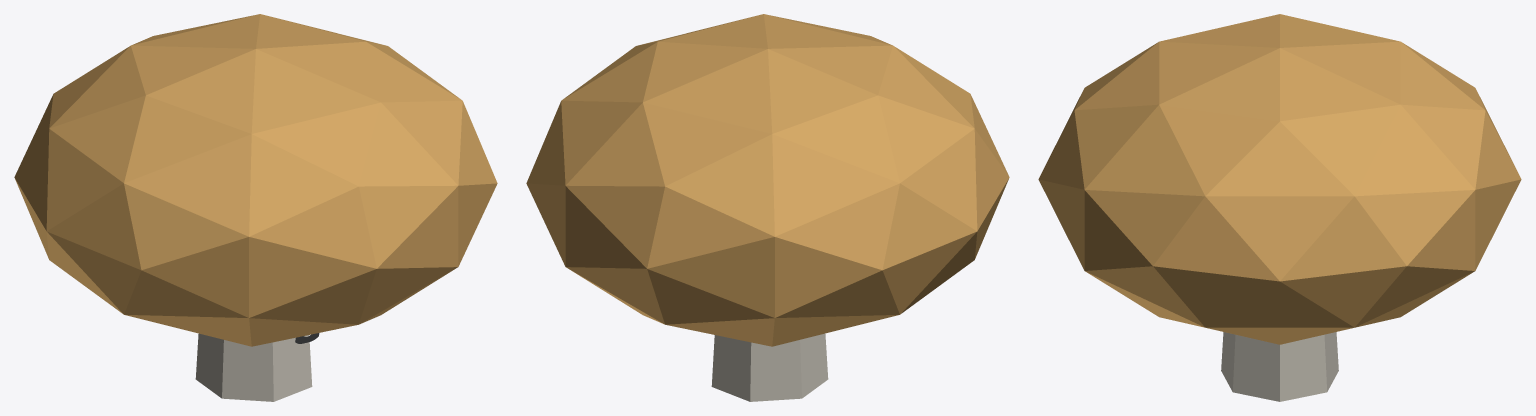
File: clitopilus-hobsonii.glb
The picture shows the model from 3 angles, left to right: view 1: azimuth 30°, elevation 25°; view 2: azimuth 150°, elevation 25°; view 3: azimuth 270°, elevation 25°; orthographic projection.
Parts seen in each view (by area): view 1: cap, stalk; view 2: cap, stalk; view 3: cap, stalk.
Boxes of the visible parts, x1,y1,x2,y2 form: cap: (14,14,497,346); stalk: (195,333,312,401); cap: (526,14,1009,346); stalk: (711,333,828,401); cap: (1038,14,1521,344); stalk: (1221,332,1338,401).
Size of the model in its own units: 0.4 by 0.3 by 0.4.
